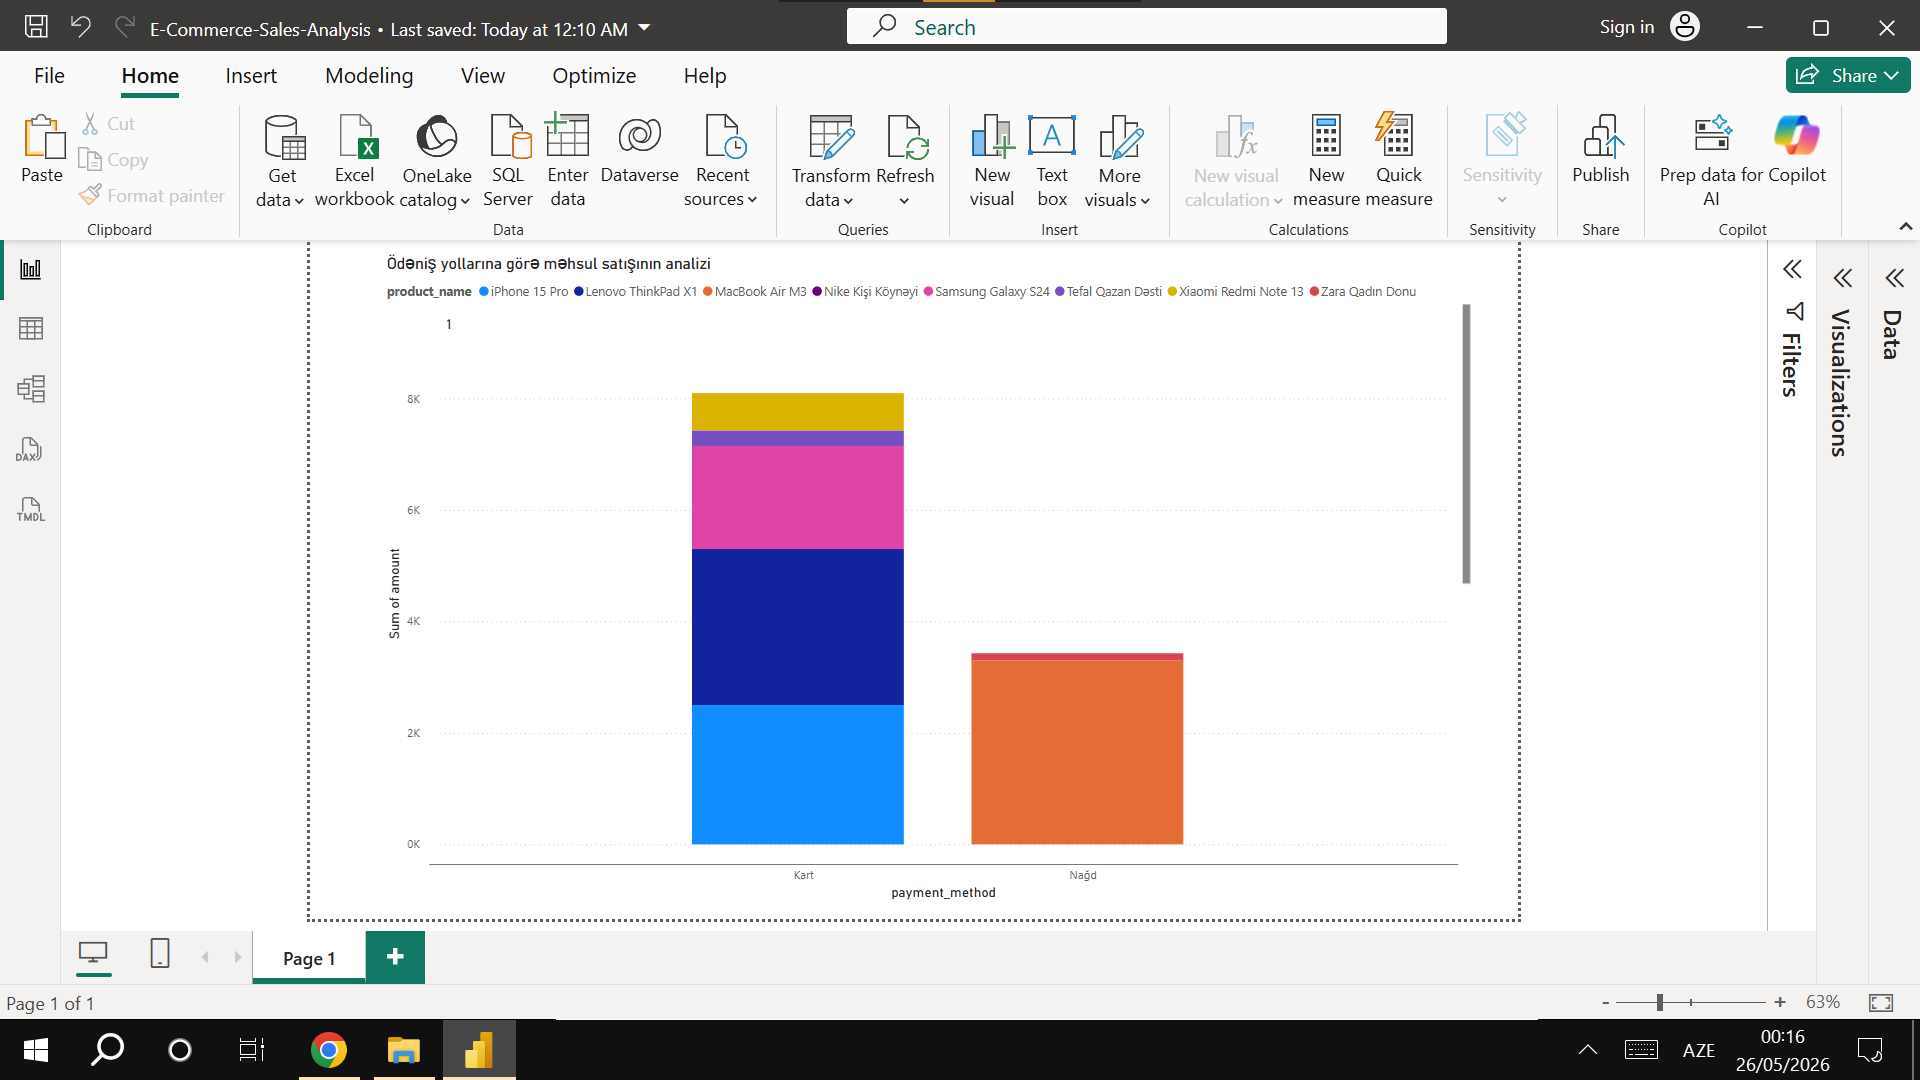

The dashboard page shown, as its layout file describes it:
{"tool":"powerbi","page":{"name":"Page 1","canvas":[1280,720],"ordinal":0},"visuals":[{"type":"lineStackedColumnComboChart","title":"Ödəniş yollarına görə məhsul satışının analizi","fields":{"Category":["public orders.payment_method"],"Y":["Sum(public payments.amount)"],"Series":["public order_items.product_name"],"Rows":["public order_items.quantity"]},"box":[157.5,55.7,1018,607.6],"z":0}]}

Visuals, with their boxes on the page's 1280x720 design canvas (x1, y1, x2, y2). These are canvas units, not pixel positions in the 1920x1080 screenshot, which may show the page scaled, cropped or inside an application window:
"Ödəniş yollarına görə məhsul satışının analizi" lineStackedColumnComboChart: [x1=158, y1=56, x2=1176, y2=663]
